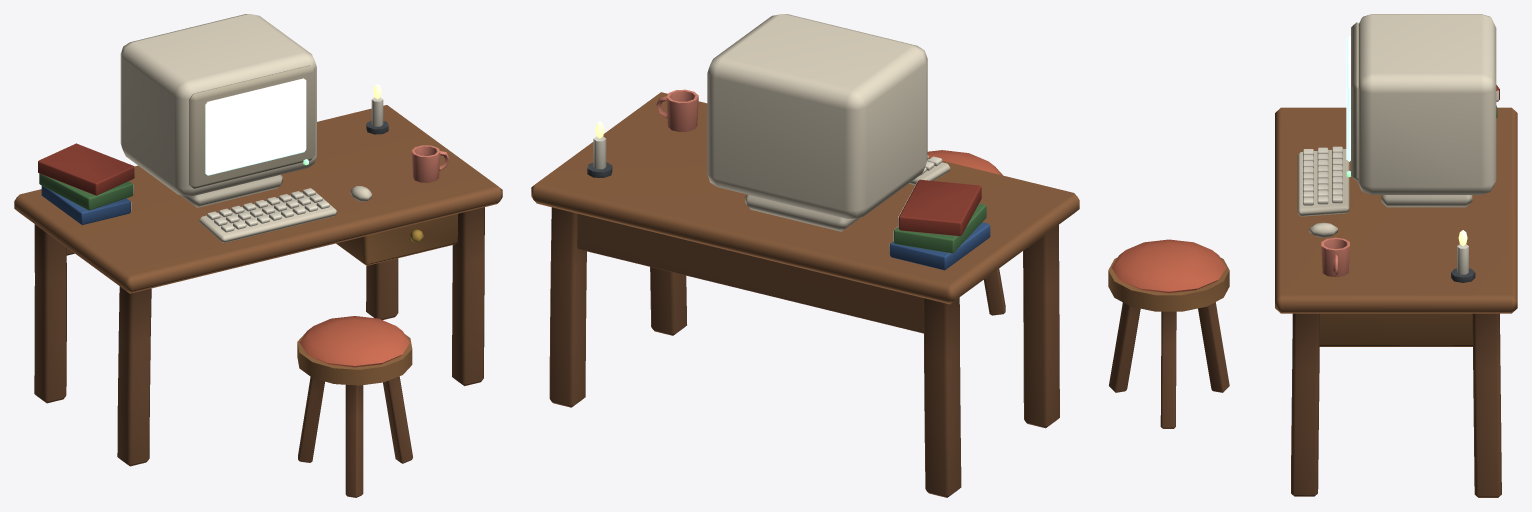
Rendered from computer.glb.
3 renders of one model, left to right at view 1: azimuth 30°, elevation 25°; view 2: azimuth 150°, elevation 25°; view 3: azimuth 270°, elevation 25°, orthographic. The views are drawn at different scales.
Parts seen in each view (by area): view 1: Desk, Screen; view 2: Desk; view 3: Desk, Screen.
Boxes of the visible parts, x1,y1,x2,y2 form: Desk: (14, 14, 502, 497); Screen: (205, 78, 306, 175); Desk: (531, 14, 1079, 497); Desk: (1108, 14, 1517, 497); Screen: (1346, 36, 1350, 161).
Size of the model in its own units: 1.5 by 1.28 by 1.35.
